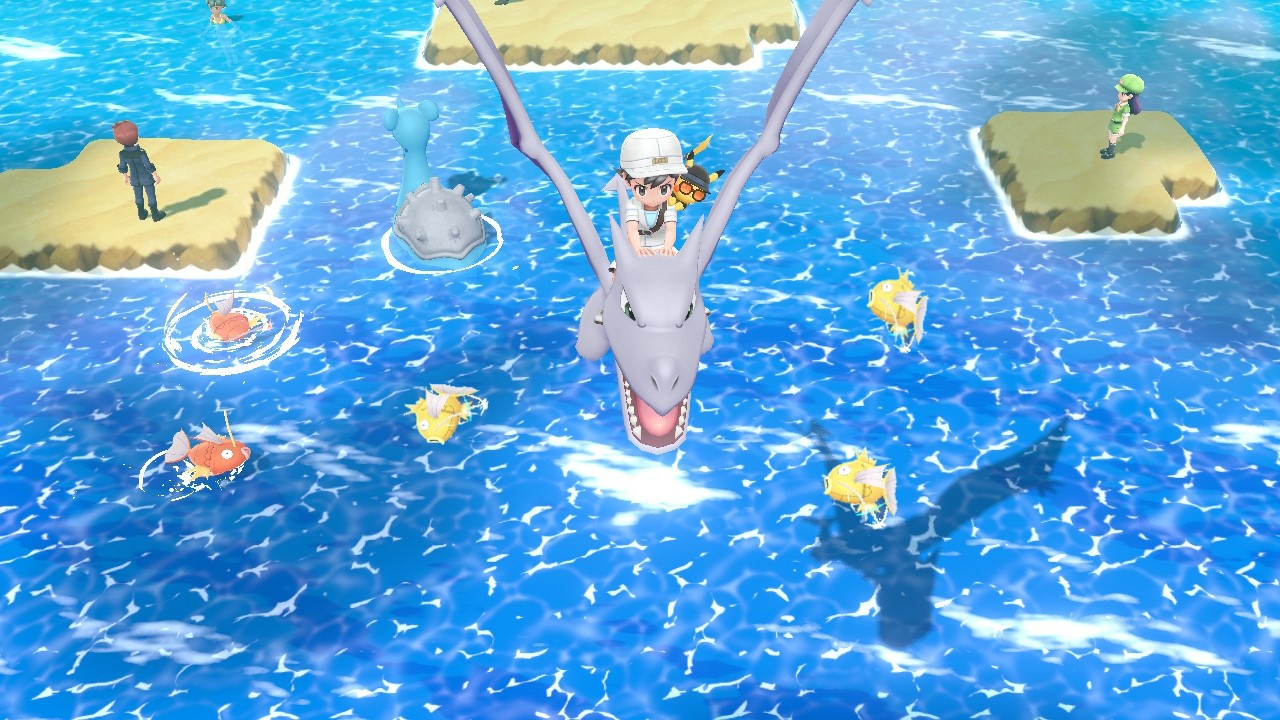Golden: (821, 444, 903, 529), (865, 264, 929, 346), (403, 380, 481, 447)
Red: (163, 422, 251, 484), (197, 298, 259, 348)
